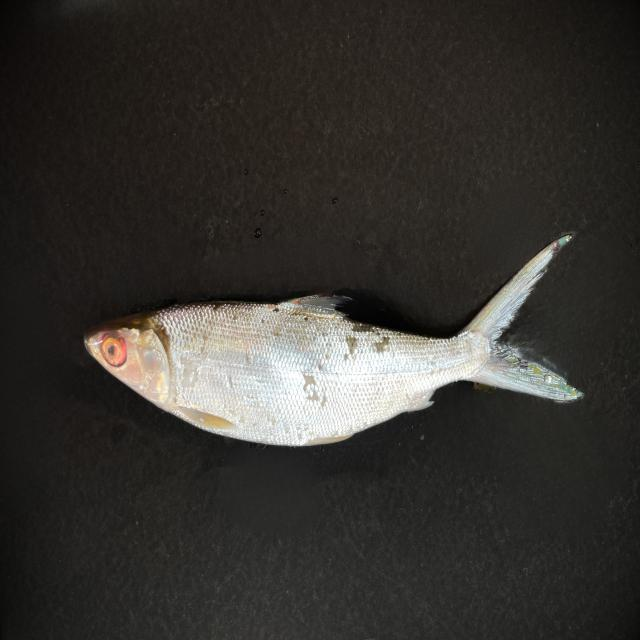675 g: (84, 234, 584, 446)
